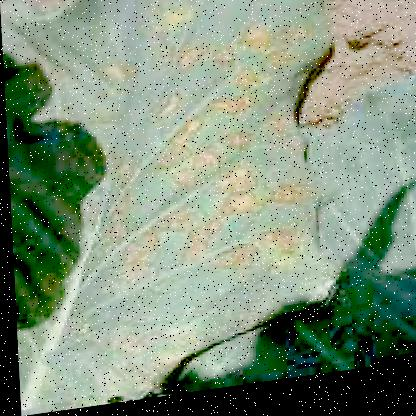DownyMildew: (102, 16, 310, 301)
